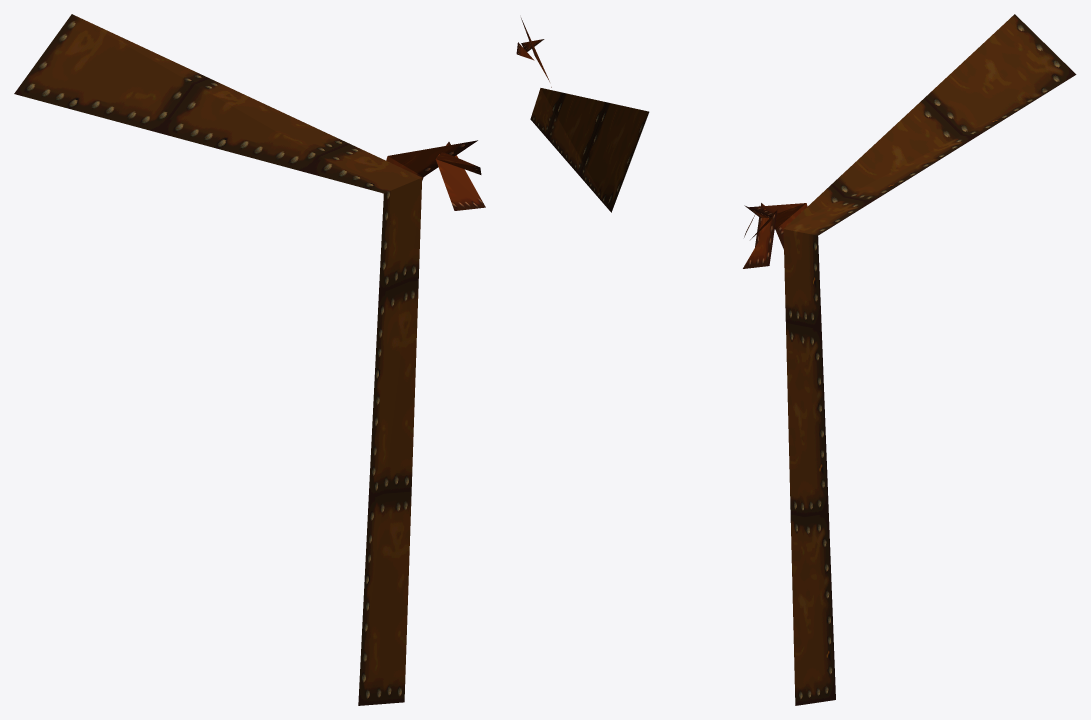
Rendered from Stütze_WinkelHell_892.glb.
3 views of the same model, side by side, from view 1: azimuth 30°, elevation 25°; view 2: azimuth 150°, elevation 25°; view 3: azimuth 270°, elevation 25° (orthographic). The views are drawn at different scales.
Visible parts, largest first — view 1: pPlaneShape69, pPlaneShape72, pPlaneShape71; view 2: pPlaneShape69; view 3: pPlaneShape69, pPlaneShape72, pPlaneShape71.
Part boxes in pixels (bbox=[...]): pPlaneShape69: bbox=[14, 14, 422, 705]; pPlaneShape72: bbox=[435, 142, 485, 210]; pPlaneShape71: bbox=[383, 140, 477, 193]; pPlaneShape69: bbox=[530, 88, 649, 212]; pPlaneShape69: bbox=[783, 14, 1076, 705]; pPlaneShape72: bbox=[743, 203, 777, 268]; pPlaneShape71: bbox=[744, 203, 807, 249].
Bounding box in the file's own units: 0.3841 × 0.7416 × 0.376.
3 materials, 3 textured.
